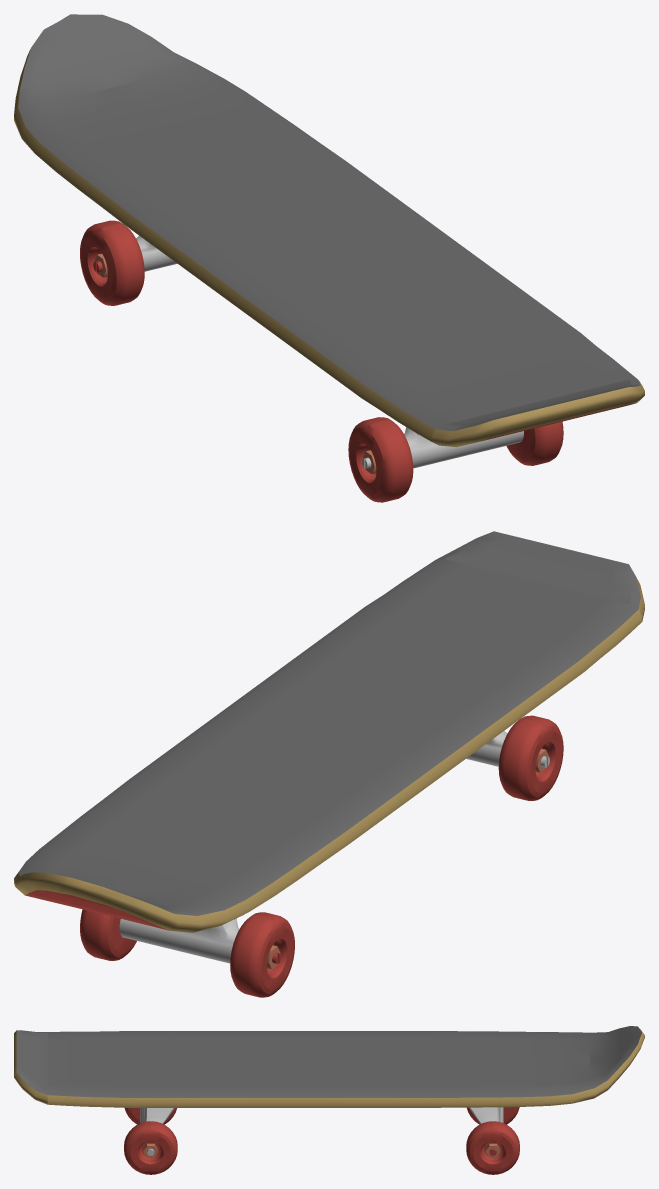
The model's file is ModeladoSkate 1.fbx.
The picture shows the model from 3 angles, top to bottom: view 1: azimuth 30°, elevation 25°; view 2: azimuth 150°, elevation 25°; view 3: azimuth 270°, elevation 25°; orthographic projection. The views are drawn at different scales.
Visible parts, largest first — view 1: Skate finalizado; view 2: Skate finalizado; view 3: Skate finalizado.
Part boxes in pixels (box(x1,y1,x2,y2)): Skate finalizado: box(14, 14, 644, 502); Skate finalizado: box(14, 531, 644, 997); Skate finalizado: box(14, 1026, 644, 1174).
Size of the model in its own units: 25.6 by 20.1 by 98.5.
